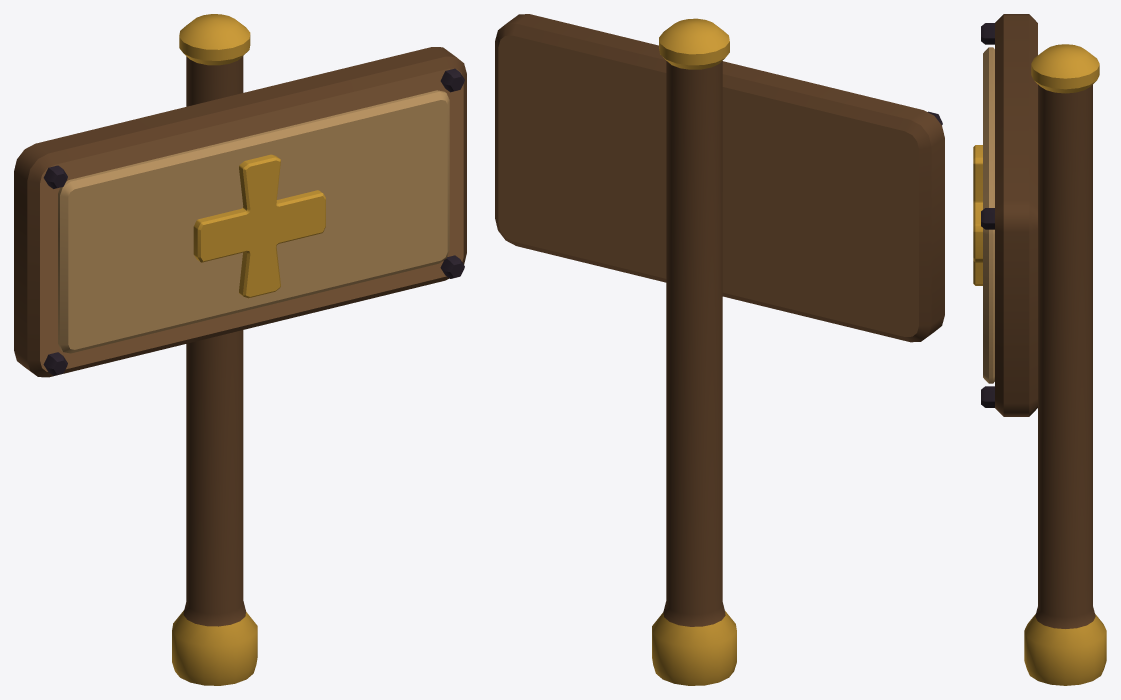
File: Sign_22.glb
The picture shows the model from 3 angles, left to right: view 1: azimuth 30°, elevation 25°; view 2: azimuth 150°, elevation 25°; view 3: azimuth 270°, elevation 25°; orthographic projection. The views are drawn at different scales.
Visible parts, largest first — view 1: Sign_22; view 2: Sign_22; view 3: Sign_22.
Boxes of the visible parts, x1,y1,x2,y2 form: Sign_22: [14, 14, 466, 685]; Sign_22: [495, 14, 944, 685]; Sign_22: [973, 14, 1106, 685].
Size of the model in its own units: 2.47 by 3.49 by 0.68.
